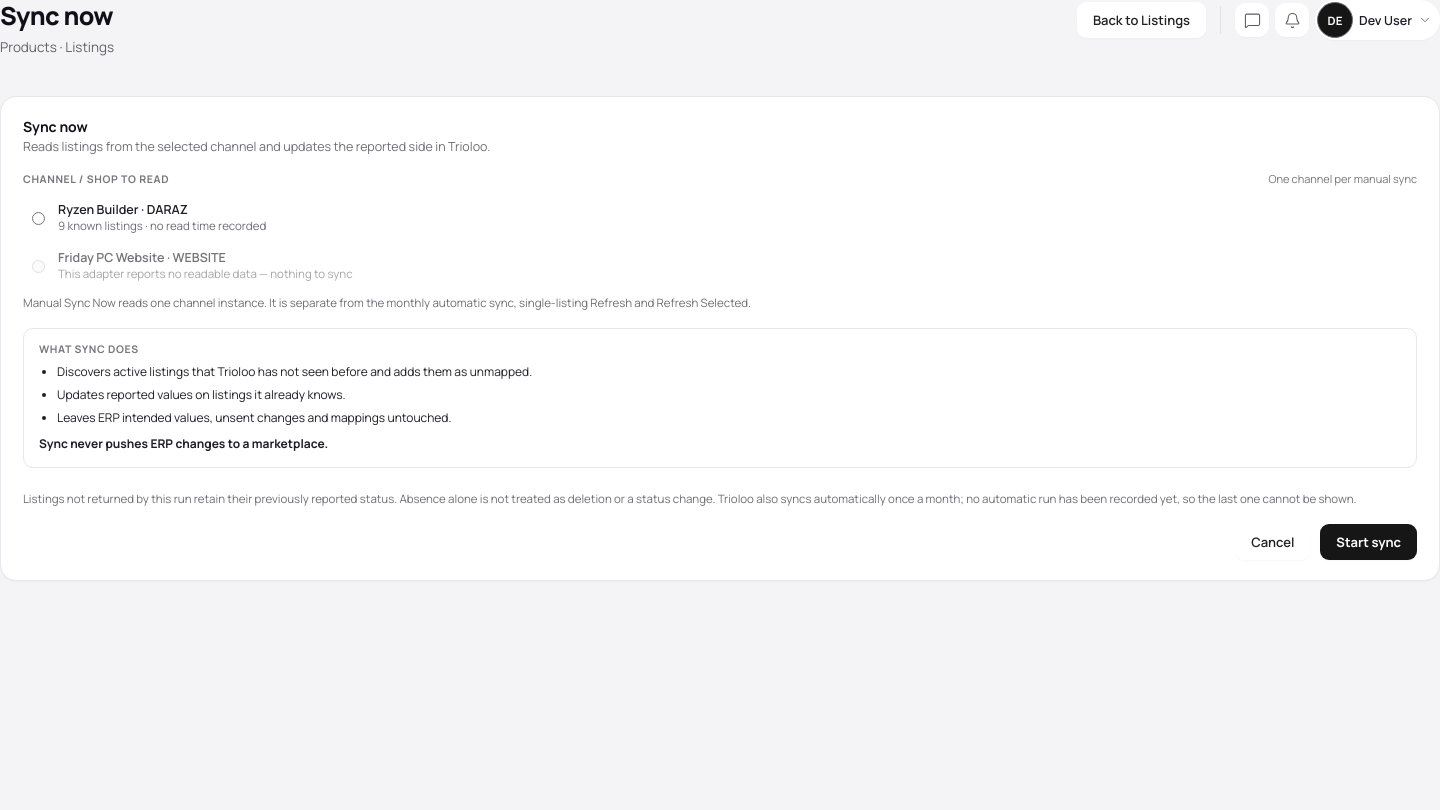
Test: Frame 20 — the run › does not start a second run while one is in flight
The image size is (1440, 810).
Expected: the element with test id "sync-request" is shown, [1,97,1439,580]
Click the radio button with test id "sync-choose-RYZEN" at (38, 218), box [32,212,45,225]
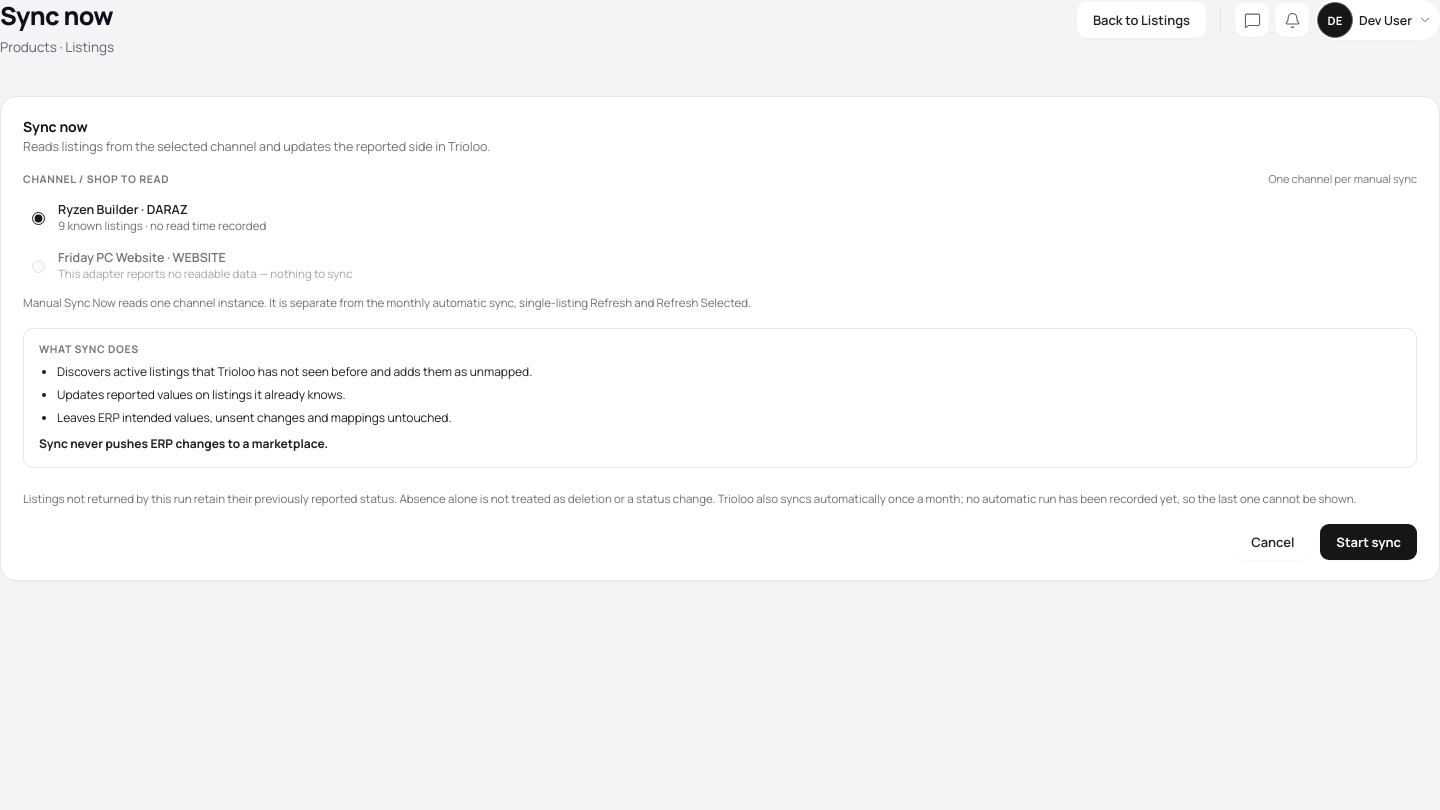
Click the button with test id "sync-start" at (1369, 542), box [1320,524,1417,560]
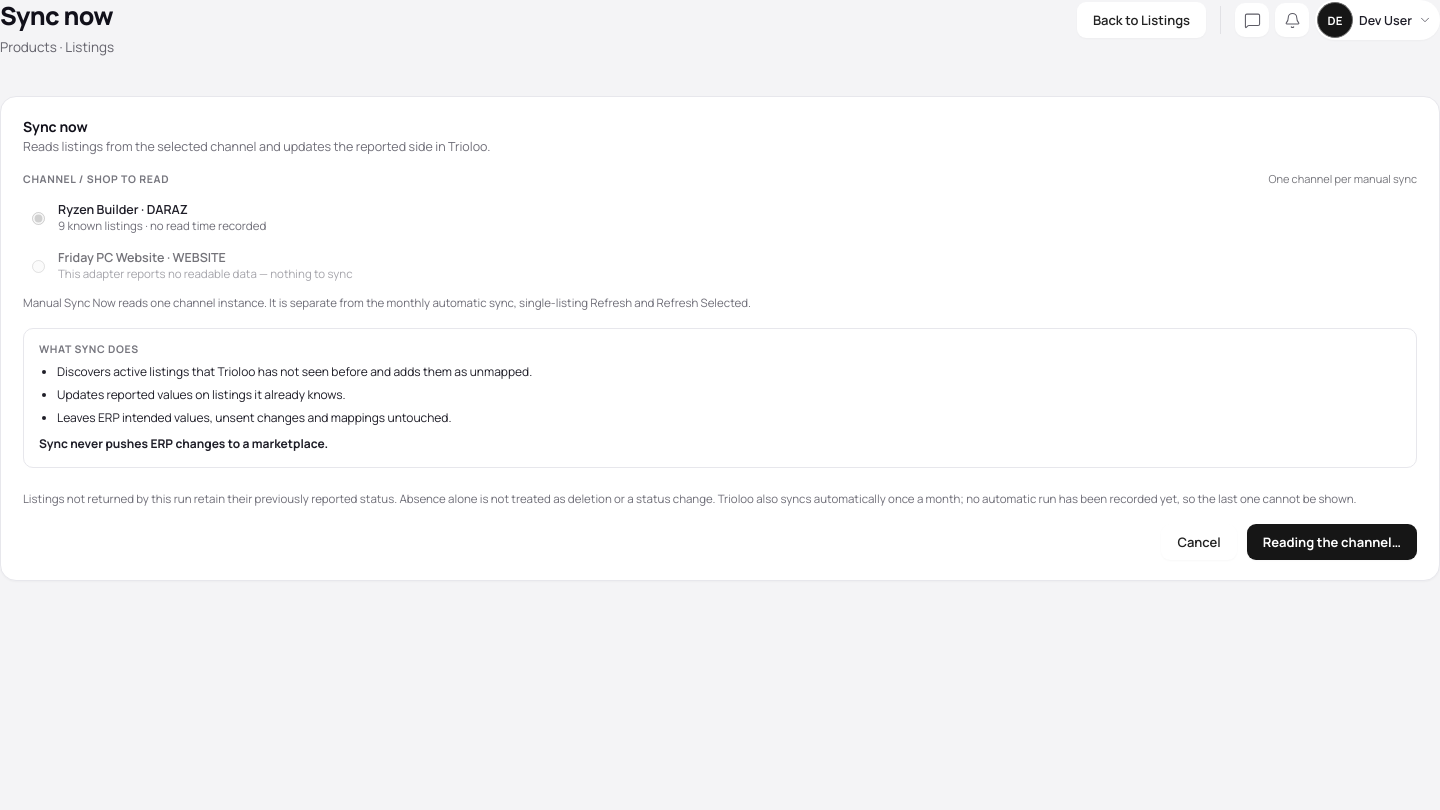
Click the button with test id "sync-start" at (1332, 542), box [1247,524,1417,560]
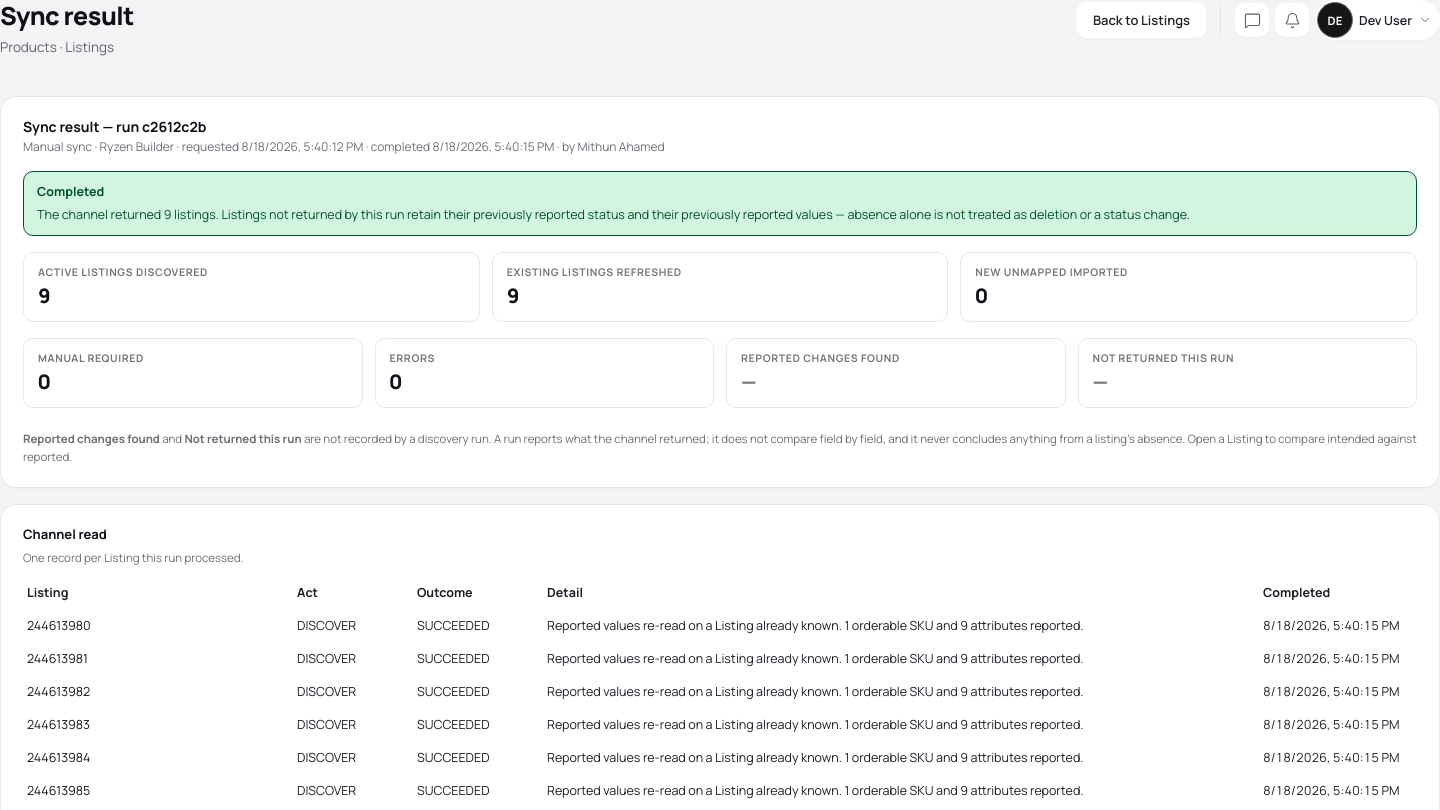
Now the element with test id "sync-result" is shown, box [1,97,1439,487]
